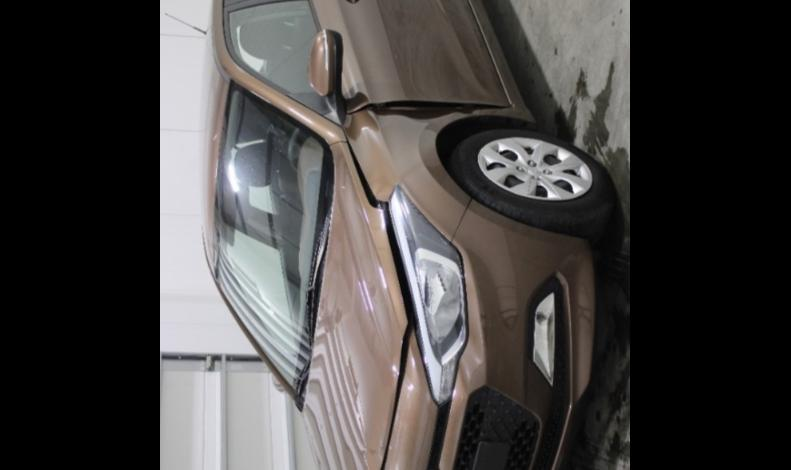Broken part: (344, 127, 418, 470), (348, 98, 516, 118)
Dent: (366, 376, 402, 470), (362, 104, 488, 124)
